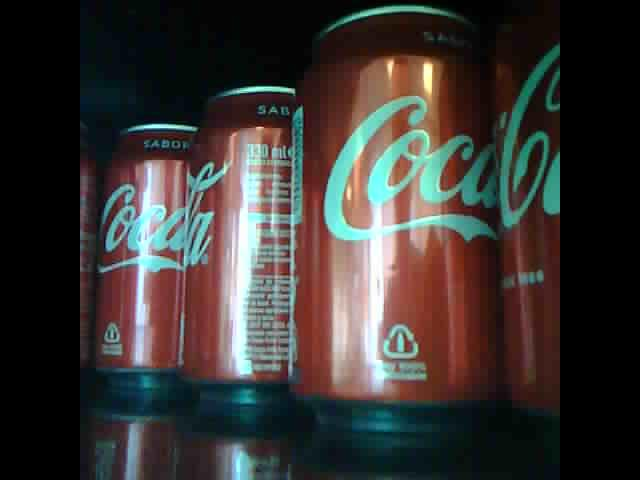coca cola: (298, 4, 498, 425), (185, 82, 298, 408), (498, 2, 560, 416), (101, 120, 192, 391)
